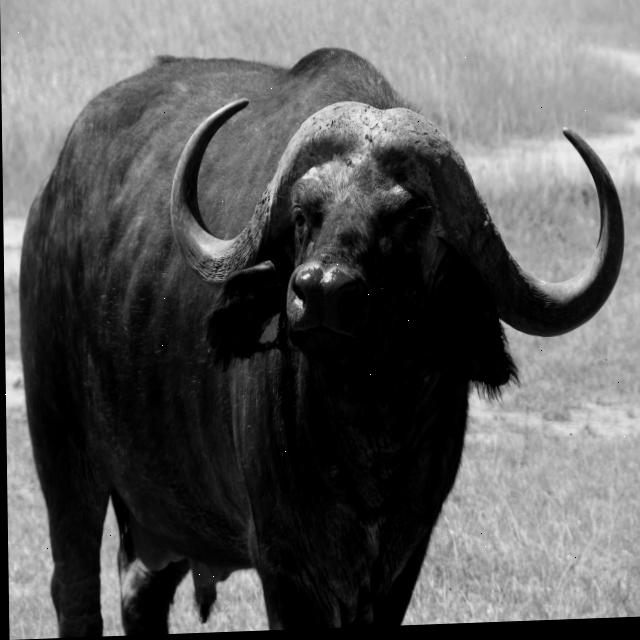Buffalo: (17, 41, 630, 639)
